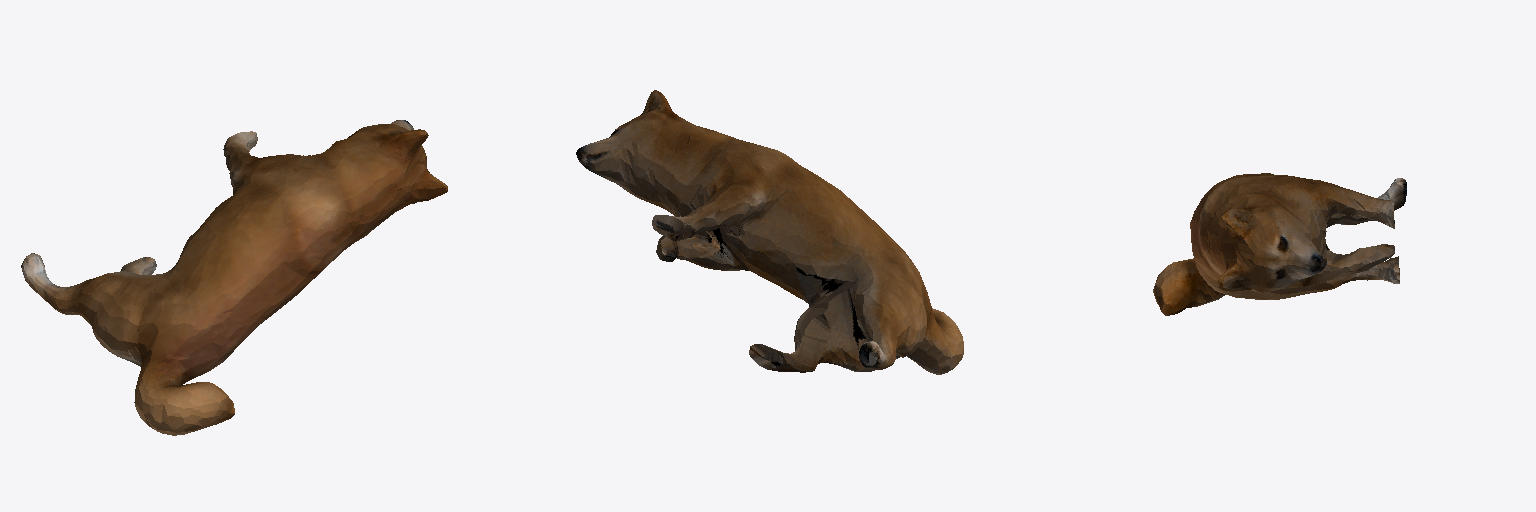
The picture shows the model from 3 angles: view 1: azimuth 30°, elevation 25°; view 2: azimuth 150°, elevation 25°; view 3: azimuth 270°, elevation 25°; orthographic projection.
Size of the model in its own units: 0.6742 by 0.4158 by 0.4258.
Materials: 1 (1 with a texture image).